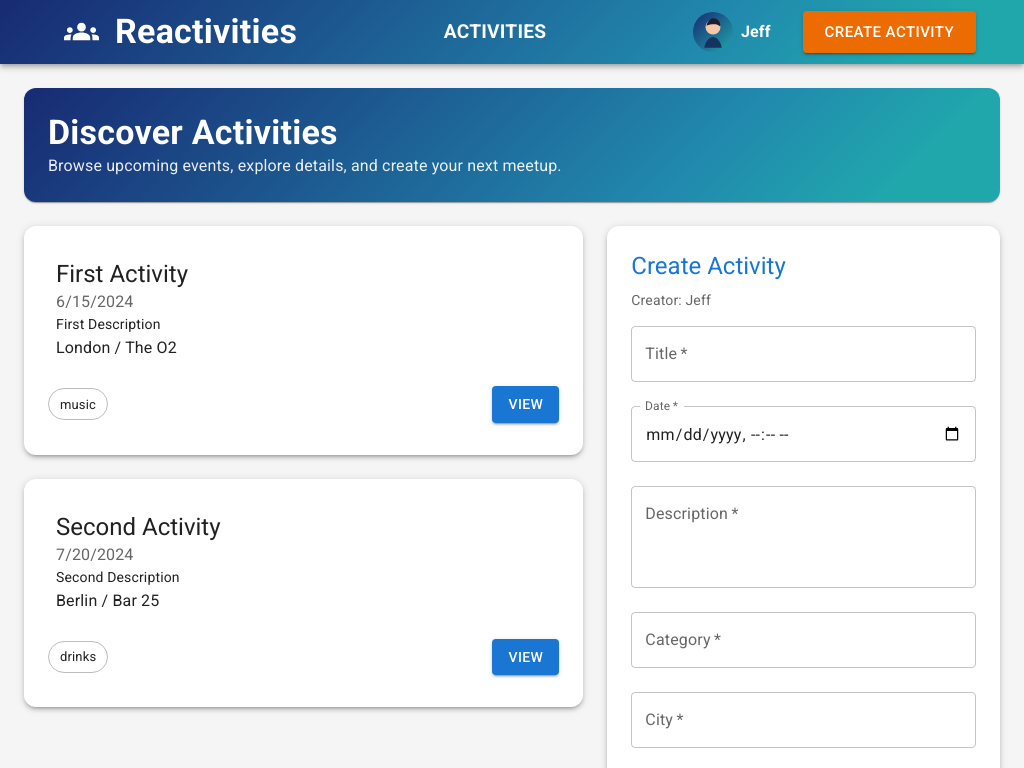
Test: App › allows navigating to the profile and seeing future events
Expected: the text "Jeff" is shown, x1=741 y1=20 x2=770 y2=44
Click the menu item "Jeff" at (732, 32), box x1=693 y1=12 x2=770 y2=52
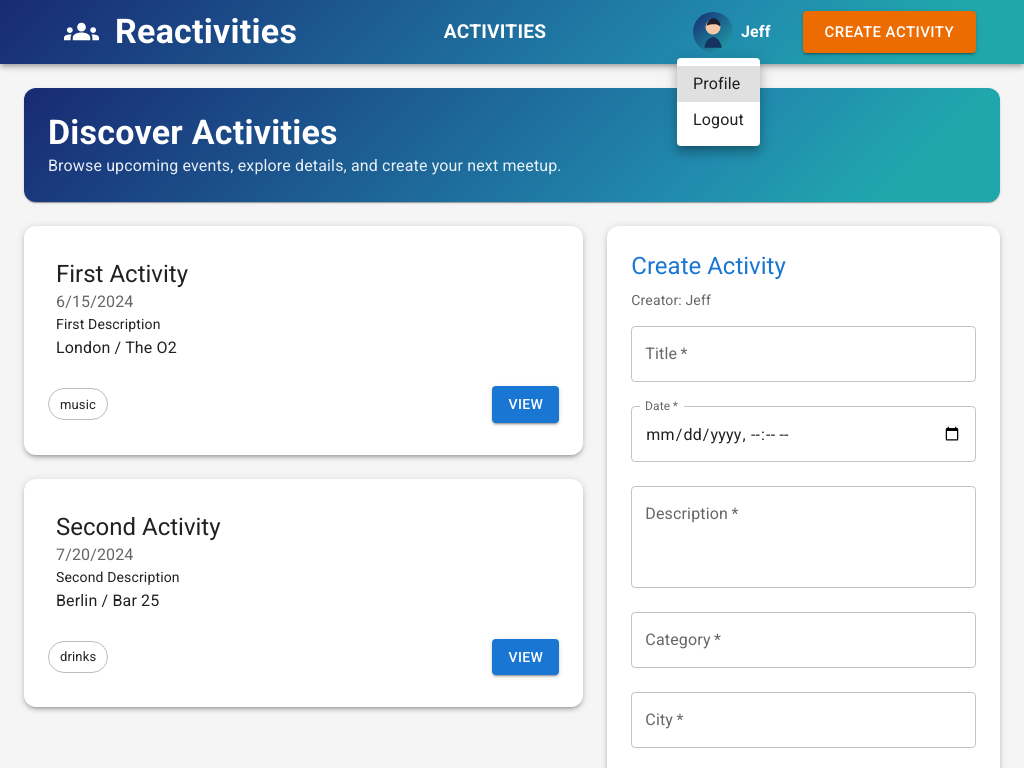
Click the menu item "Profile" at (718, 84), box x1=677 y1=66 x2=760 y2=102
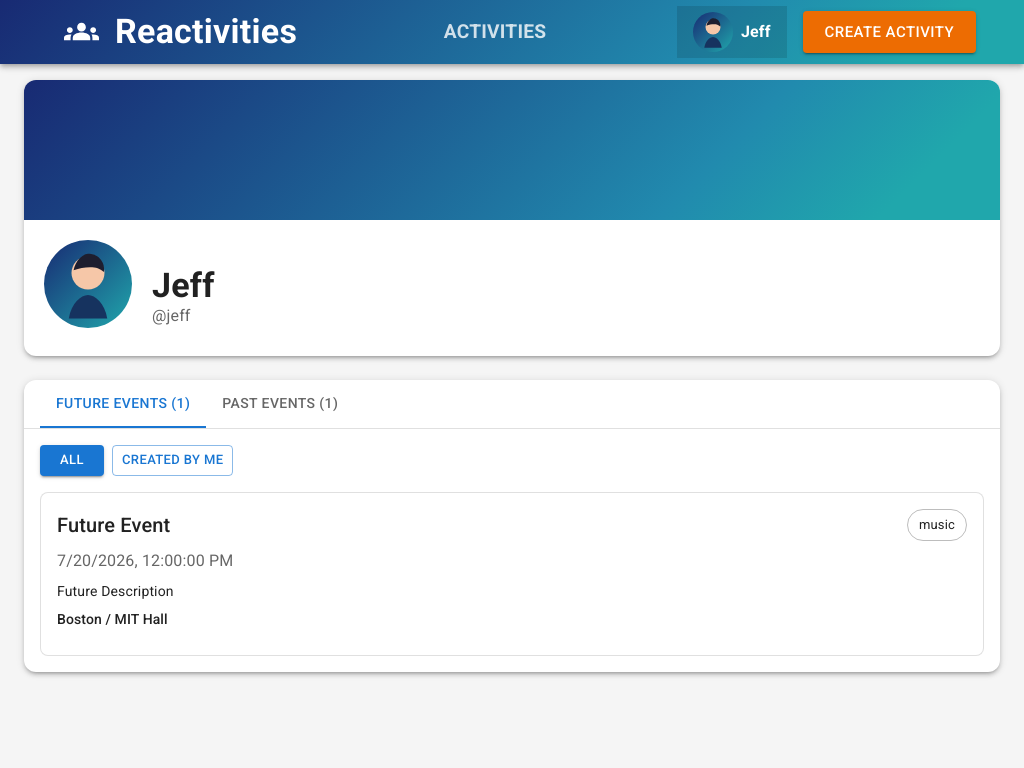
Now the text "@jeff" is shown, box x1=152 y1=306 x2=191 y2=325
Now the heading "Future Event" is shown, box x1=57 y1=509 x2=170 y2=541
